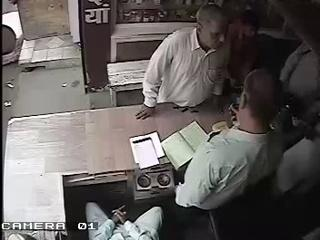Normal: (174, 69, 318, 240), (135, 4, 231, 121), (85, 202, 163, 240)
